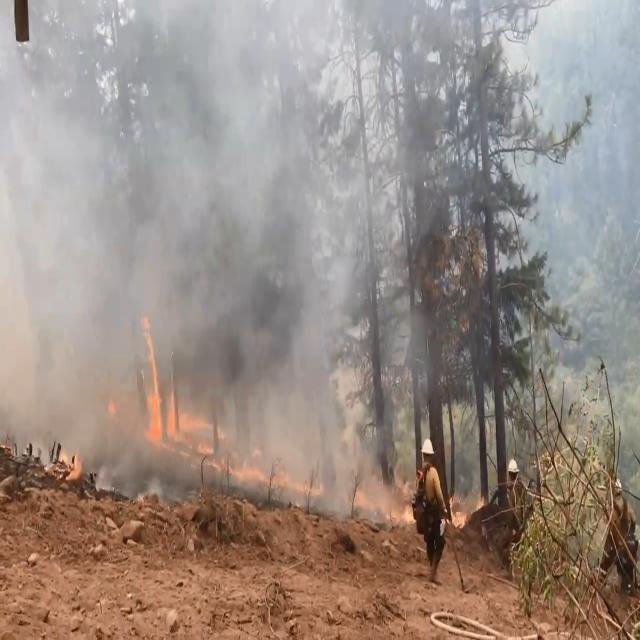Fire: (51, 317, 347, 511)
